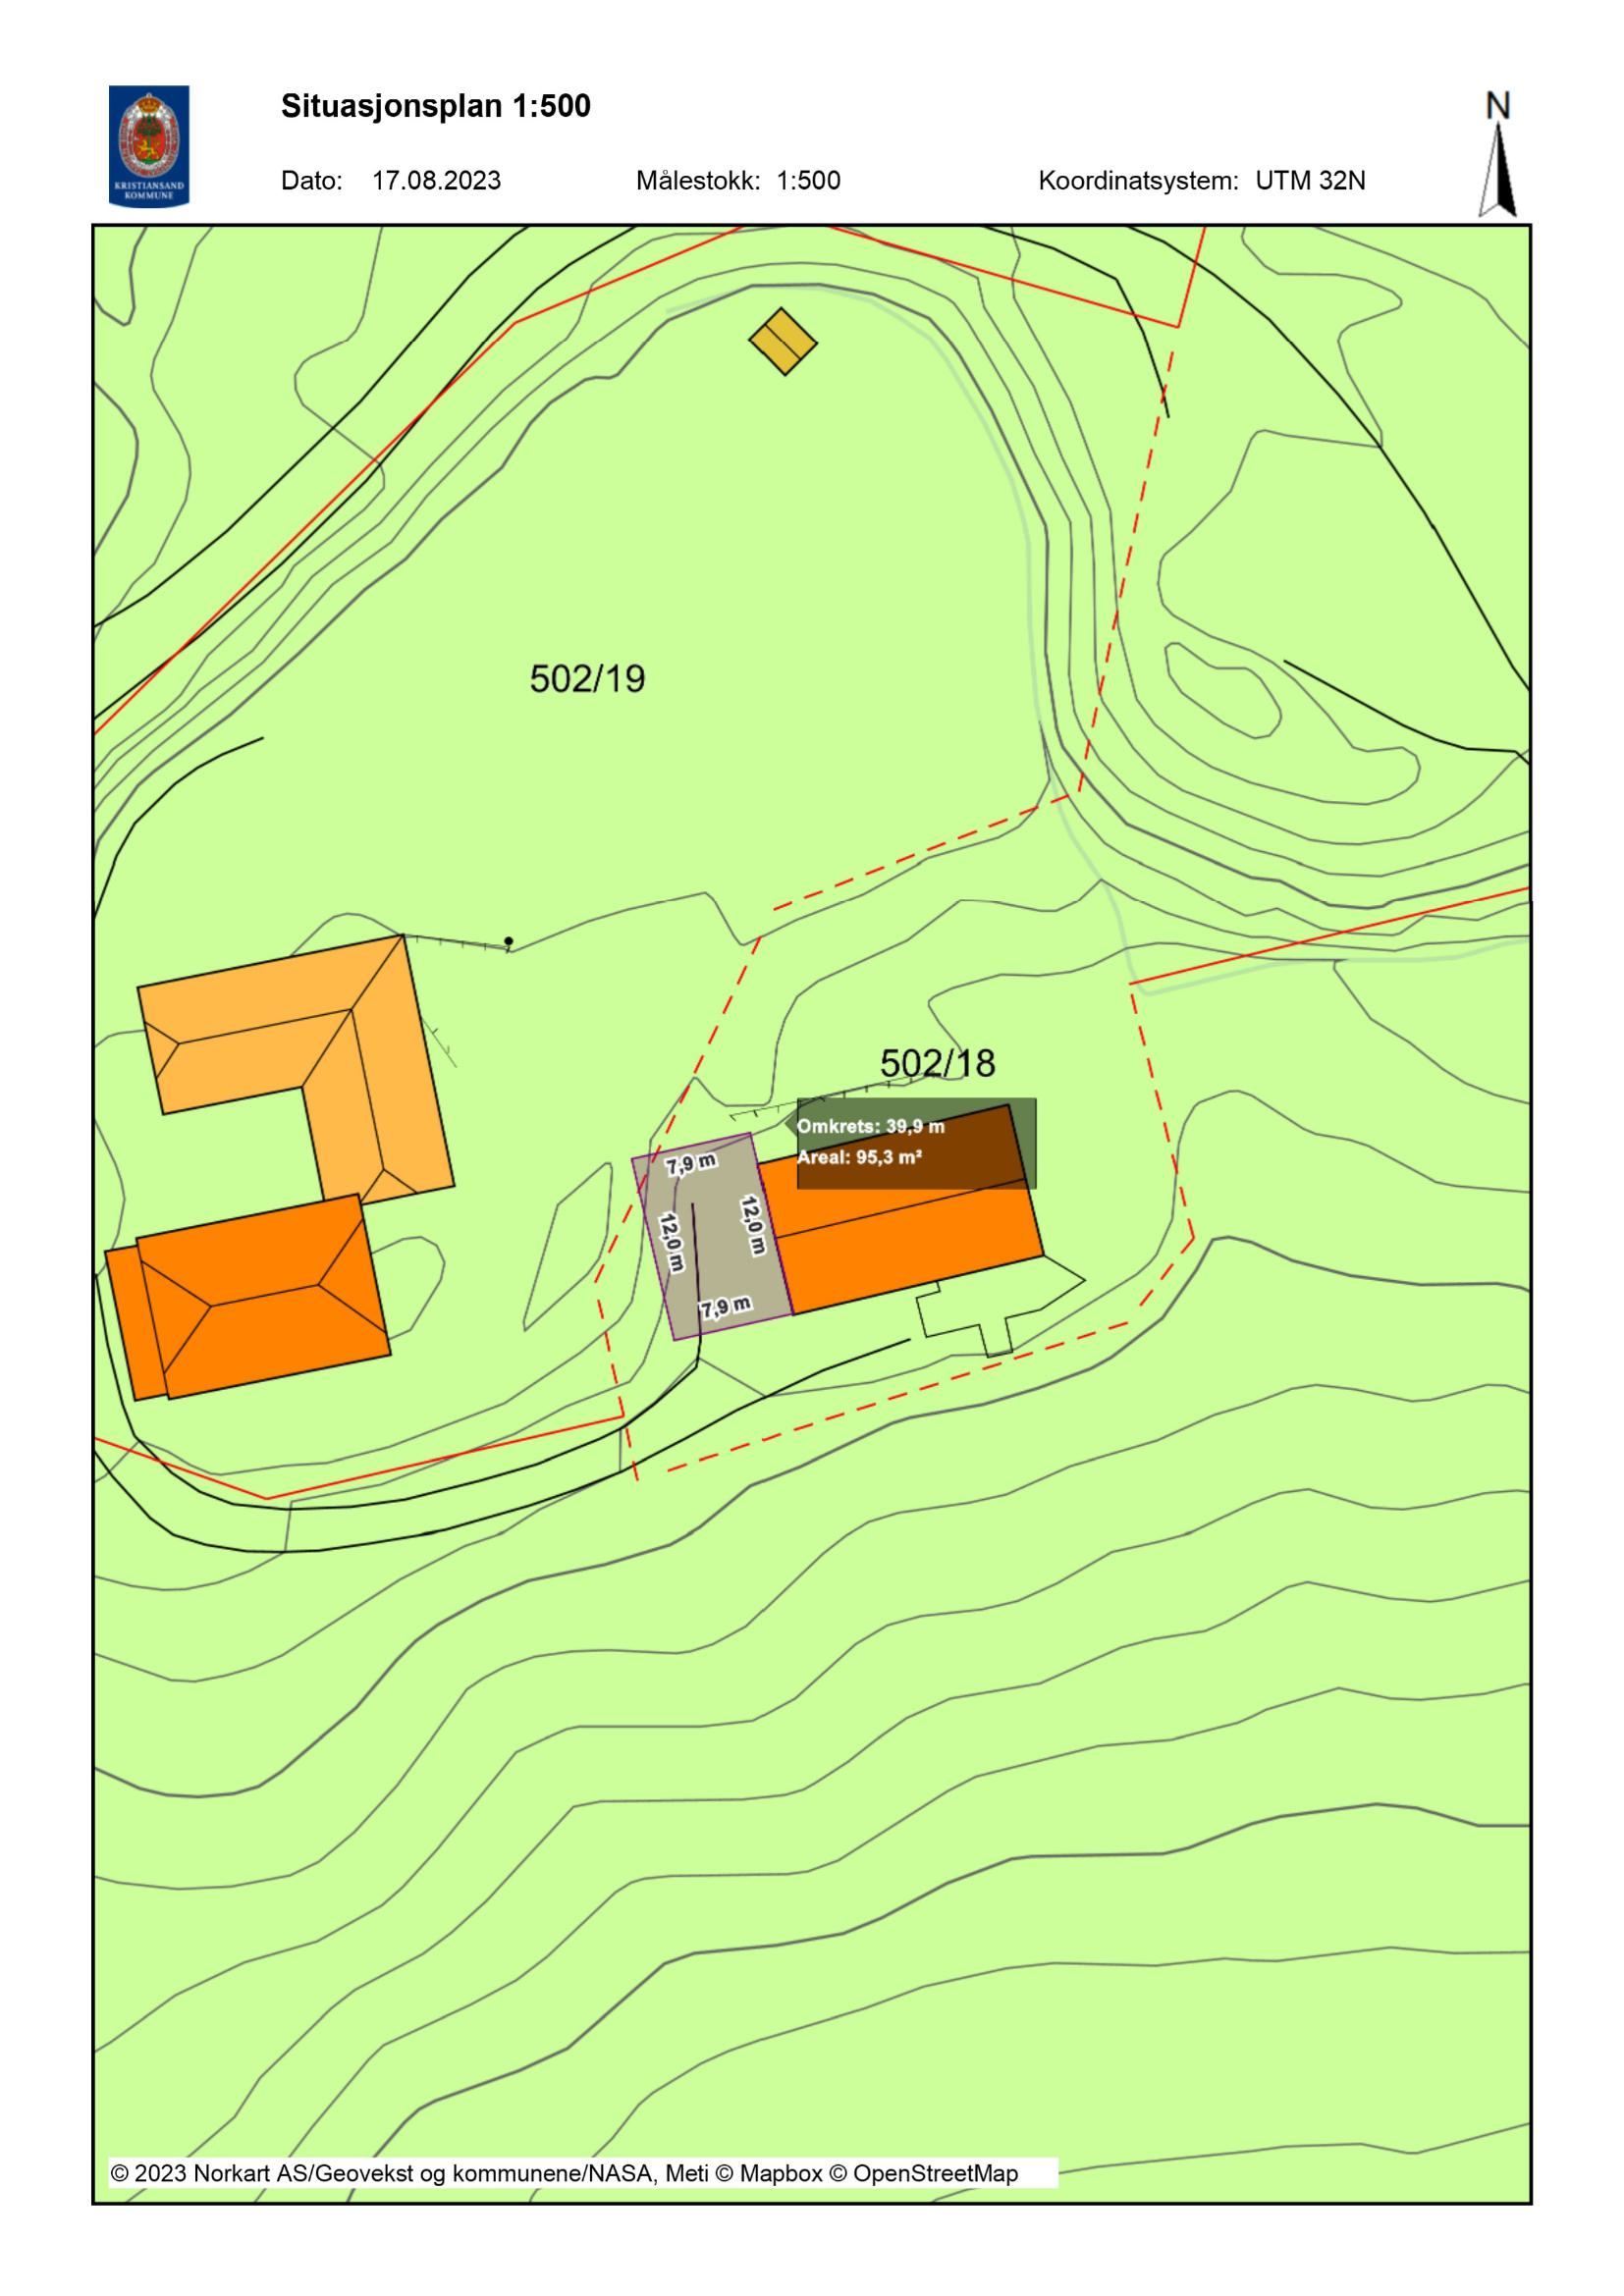situasjonskart: (90, 230, 1538, 2196)
